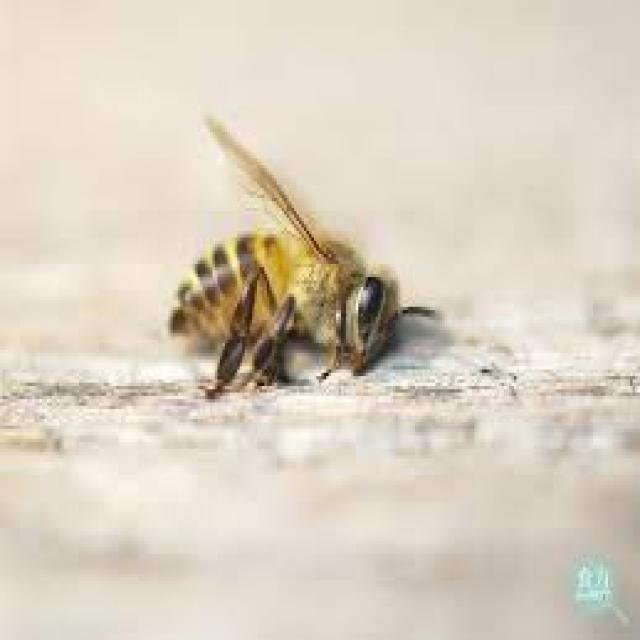Bees: (166, 111, 442, 399)
